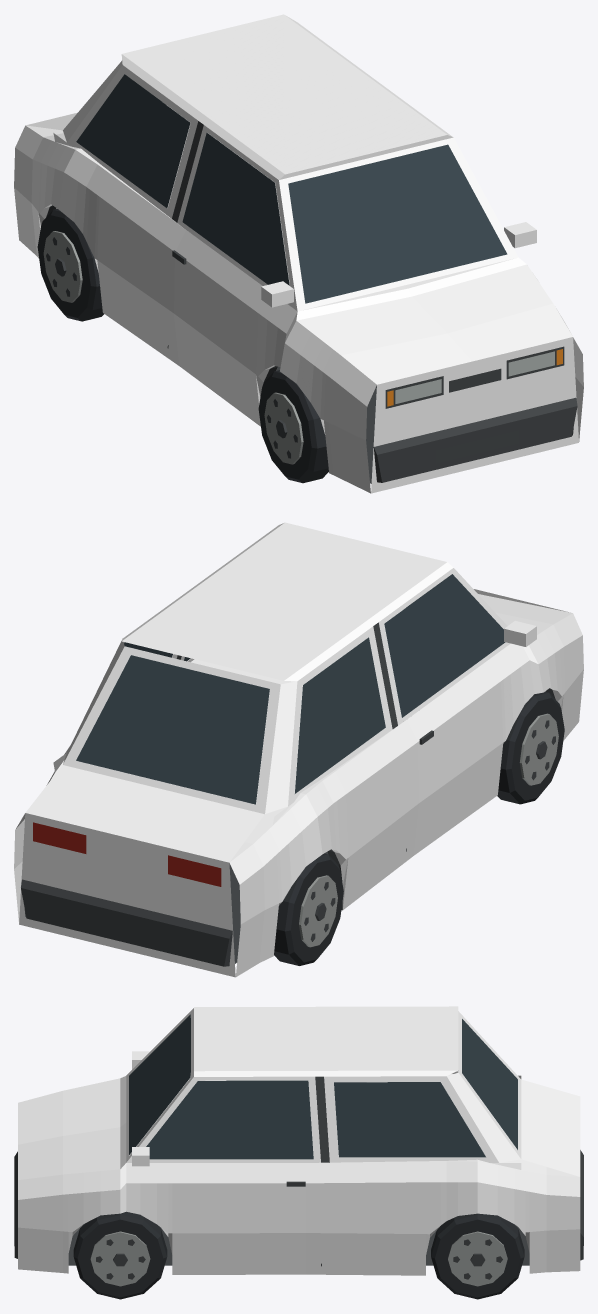
Rendered from vallon_rafale_d_est_s.glb.
3 renders of one model, top to bottom at view 1: azimuth 30°, elevation 25°; view 2: azimuth 150°, elevation 25°; view 3: azimuth 270°, elevation 25°, orthographic. The views are drawn at different scales.
Parts seen in each view (by area): view 1: vallon_rafale_d_est_s; view 2: vallon_rafale_d_est_s; view 3: vallon_rafale_d_est_s.
Boxes of the visible parts, <box> form: vallon_rafale_d_est_s: <box>14,14,583,493</box>; vallon_rafale_d_est_s: <box>14,522,583,977</box>; vallon_rafale_d_est_s: <box>14,1006,583,1299</box>.
Size of the model in its own units: 1.69 by 1.6 by 3.89.
8 materials, 1 textured.
